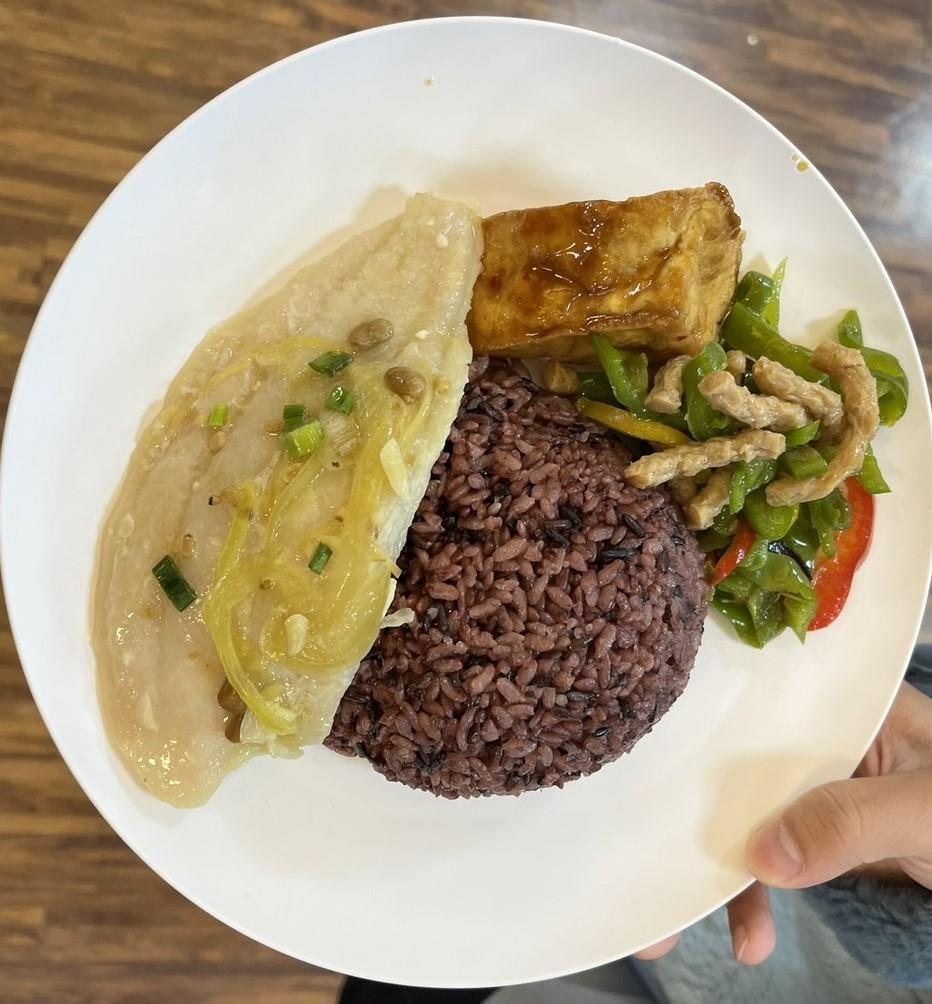big fried chicken leg: (8, 13, 932, 999)
braised fish: (339, 376, 713, 799)
braised fish fillet: (595, 283, 898, 653), (469, 171, 746, 363)
braised pork ribs: (85, 175, 485, 813)
